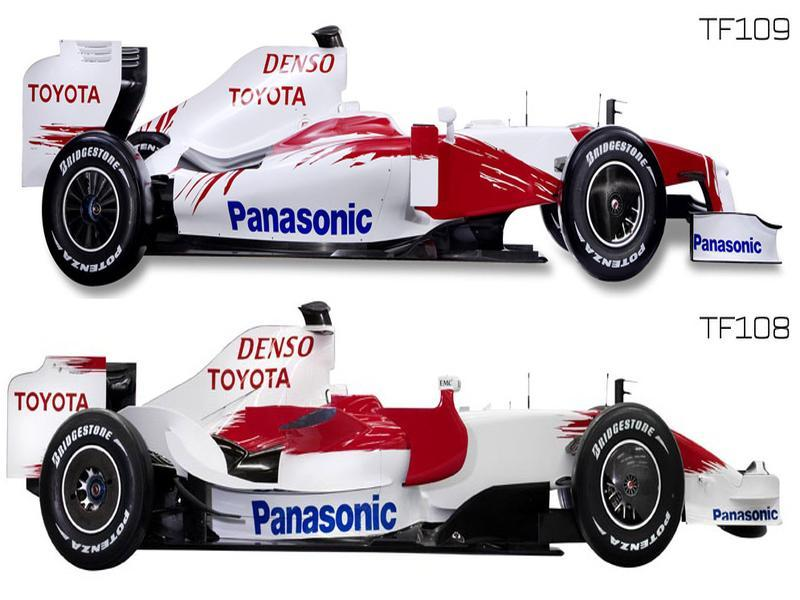f1: (12, 308, 787, 573), (29, 19, 779, 285)
